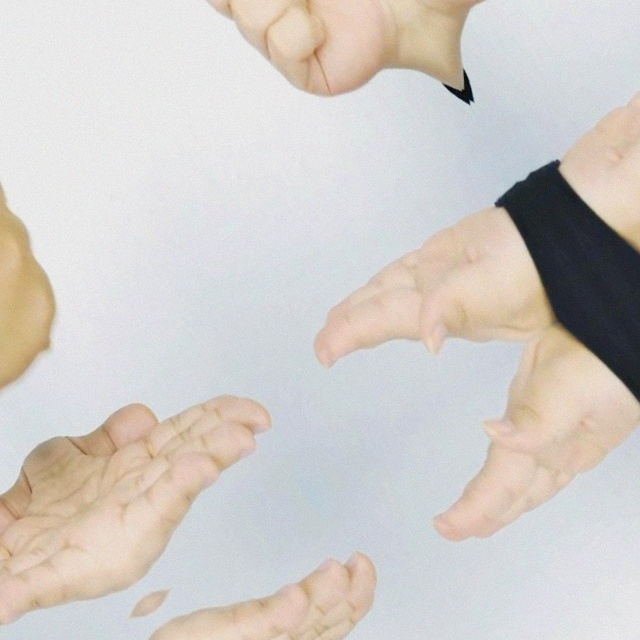Rock: (0, 80, 113, 399), (0, 154, 7, 473)
